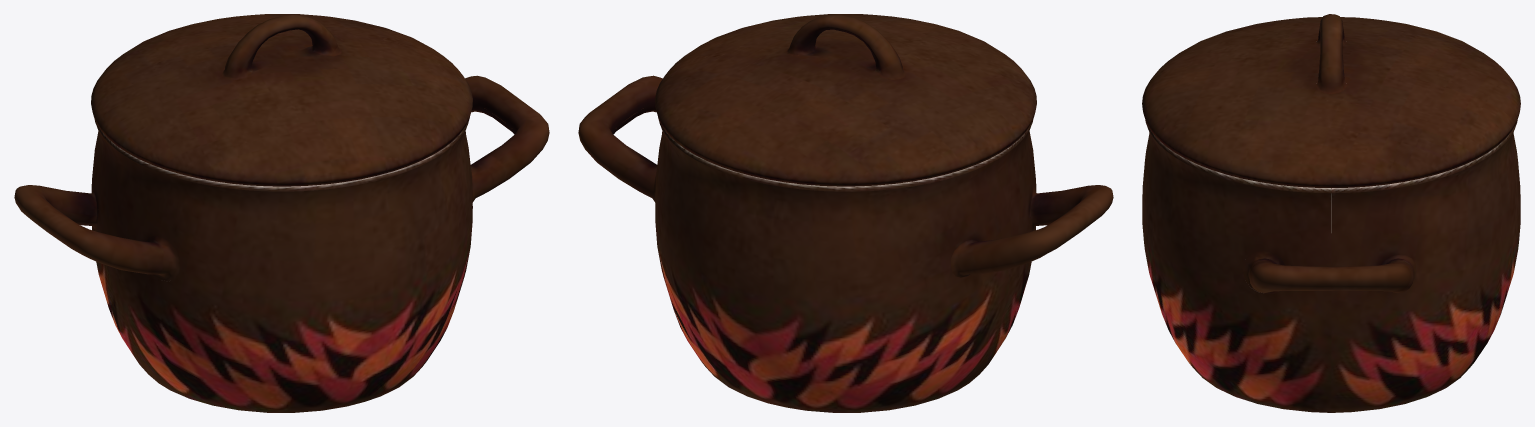
Rendered from pot_enamel_01.gltf.
3 views of the same model, side by side, from view 1: azimuth 30°, elevation 25°; view 2: azimuth 150°, elevation 25°; view 3: azimuth 270°, elevation 25° (orthographic).
Visible parts, largest first — view 1: pot_enamel_01_base, pot_enamel_01_lid; view 2: pot_enamel_01_base, pot_enamel_01_lid; view 3: pot_enamel_01_base, pot_enamel_01_lid.
Boxes of the visible parts, x1,y1,x2,y2 form: pot_enamel_01_base: (14, 75, 549, 412); pot_enamel_01_lid: (91, 14, 472, 186); pot_enamel_01_base: (578, 75, 1113, 412); pot_enamel_01_lid: (655, 14, 1036, 186); pot_enamel_01_base: (1142, 120, 1520, 412); pot_enamel_01_lid: (1142, 14, 1520, 188).
Bounding box in the file's own units: 0.2629 × 0.1782 × 0.1805.
Materials: 1 (1 with a texture image).
